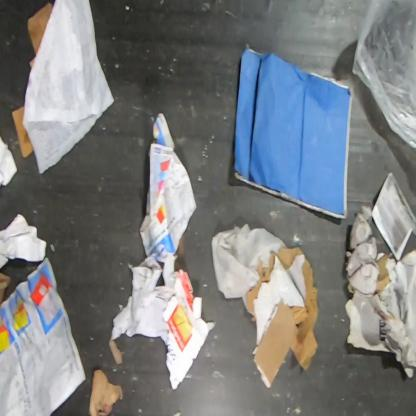cardboard: (230, 41, 357, 223), (244, 246, 318, 389), (374, 211, 416, 398), (26, 0, 54, 68), (11, 104, 35, 160)
soft_plastic: (349, 0, 415, 179)
